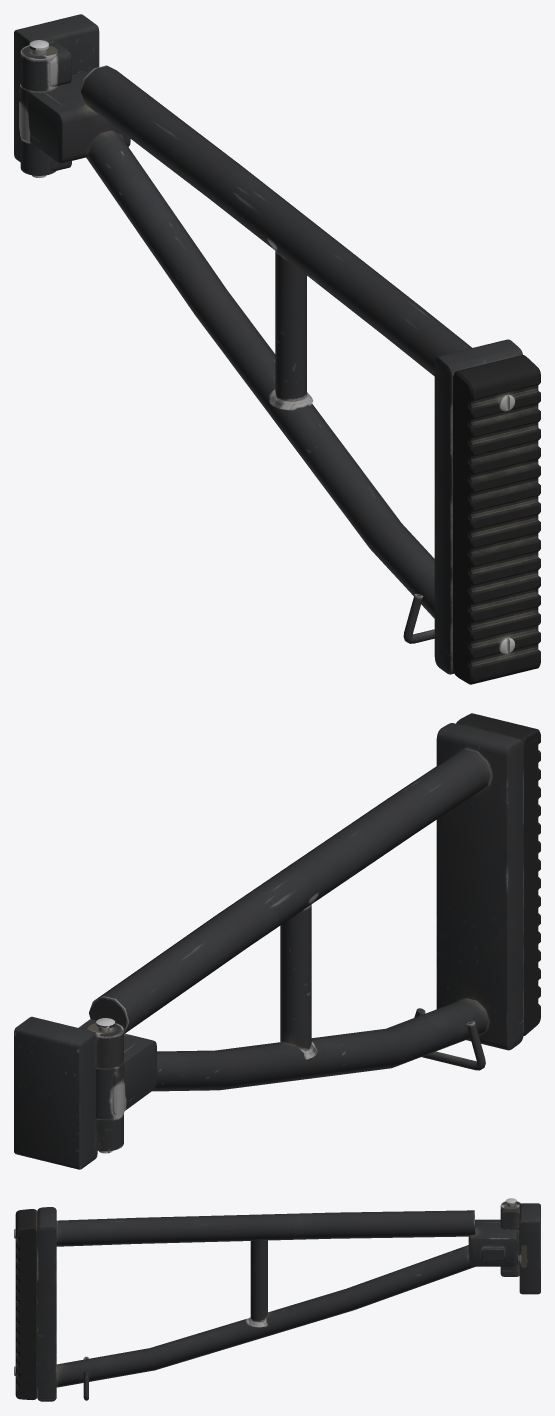
Rendered from coronha_rebativel_ak.glb.
3 renders of one model, top to bottom at view 1: azimuth 30°, elevation 25°; view 2: azimuth 150°, elevation 25°; view 3: azimuth 270°, elevation 25°, orthographic. The views are drawn at different scales.
Parts seen in each view (by area): view 1: coronha_rebativel_ak_coronha, coronha_rebativel_ak_base; view 2: coronha_rebativel_ak_coronha, coronha_rebativel_ak_base; view 3: coronha_rebativel_ak_coronha, coronha_rebativel_ak_base.
Part boxes in pixels (x1=…): coronha_rebativel_ak_coronha: x1=19, y1=65, x2=540, y2=684; coronha_rebativel_ak_base: x1=14, y1=14, x2=99, y2=177; coronha_rebativel_ak_coronha: x1=89, y1=713, x2=540, y2=1119; coronha_rebativel_ak_base: x1=14, y1=1016, x2=123, y2=1169; coronha_rebativel_ak_coronha: x1=14, y1=1207, x2=519, y2=1401; coronha_rebativel_ak_base: x1=500, y1=1198, x2=540, y2=1294.
Size of the model in its own units: 0.0339 by 0.1233 by 0.32.
1 material, 1 textured.
